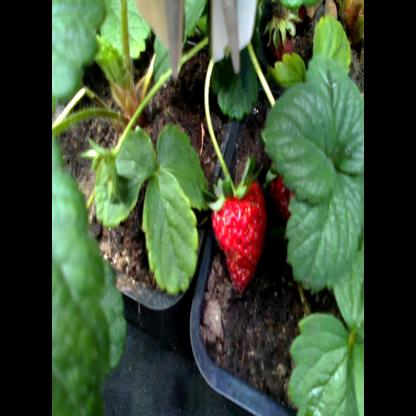ripe: (209, 178, 268, 297), (271, 146, 321, 242)
